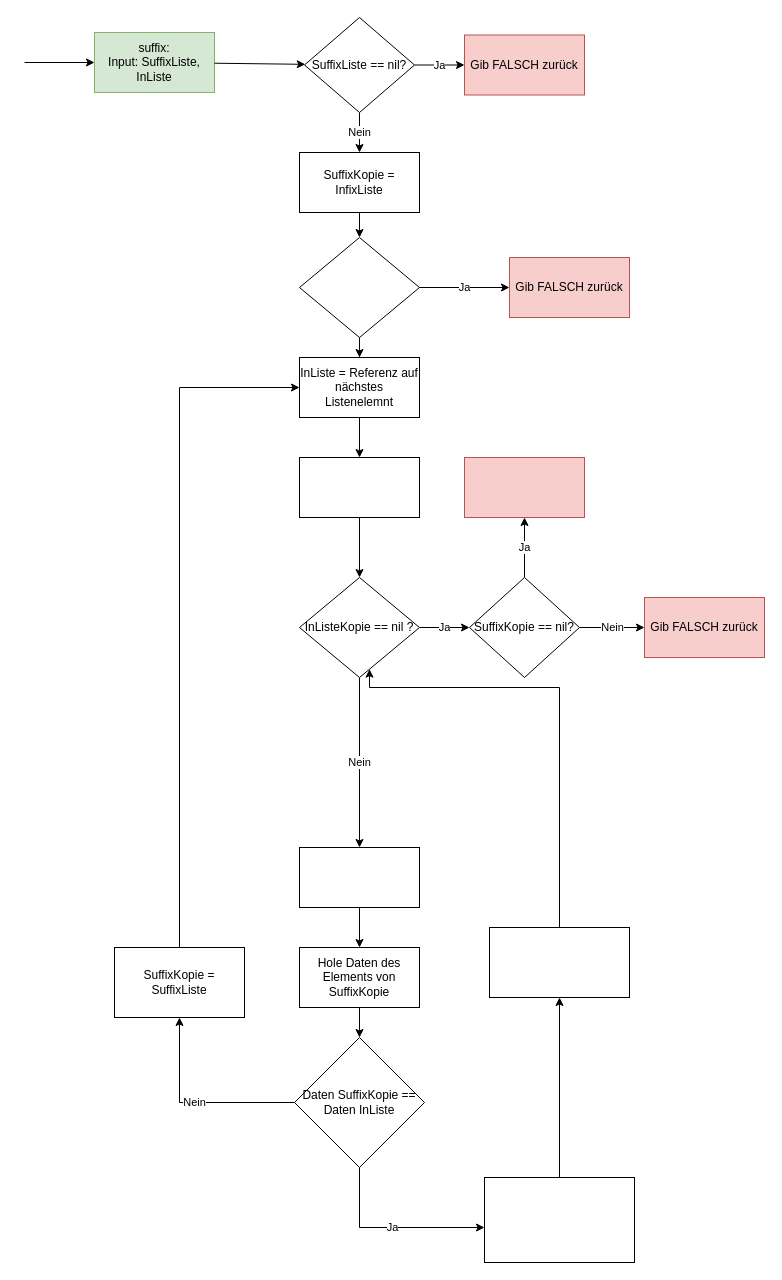
The diagram is 782 pixels wide and 1280 high, and some of its shapes have lost their labels. The shapes that lost their labels are listed below. From the top down, each one's box as (x1, y1, x2, y2) in pixels, then its label:
(298, 236, 420, 338): InListe == nil ?
(298, 456, 420, 518): InListeKopie = InListe
(464, 456, 584, 518): Gib WAHR zurück
(298, 846, 420, 908): Hole Daten des Elements von InListe
(488, 926, 630, 998): InListe = Referefenz auf nächstes ListenElement von InListe
(484, 1176, 634, 1262): SuffixKopie = Element auf nächstes ListensElement von SuffixKopie
